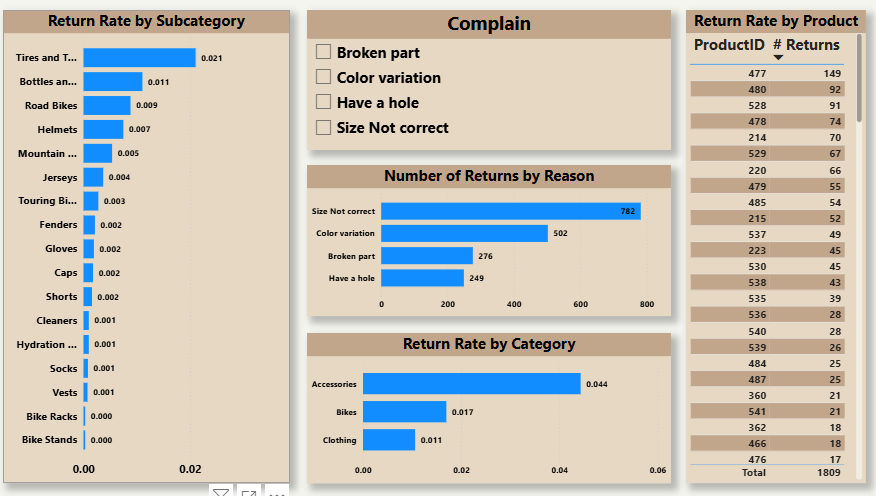

This screenshot's page, from the dashboard's own definition file:
{"tool":"powerbi","page":{"name":"Returns(2)","canvas":[1280,720],"ordinal":9},"visuals":[{"type":"barChart","title":"Return Rate by Category","fields":{"Category":["Complaints_Returns.CategoryName"],"Y":["AllMeasures.Return Rate"]},"box":[448.7,475.5,520.2,214.5],"z":0},{"type":"barChart","title":"Return Rate by Subcategory","fields":{"Category":["Complaints_Returns.SubcategoryName"],"Y":["AllMeasures.Return Rate"]},"box":[14.3,14.3,409.4,675.8],"z":1000},{"type":"tableEx","title":"Return Rate by Product","fields":{"Values":["Complaints_Returns.ProductID","AllMeasures.# Returns"]},"box":[990.4,14.3,257.4,675.8],"z":2000},{"type":"barChart","title":"Number of Returns by Reason","fields":{"Category":["Complaints_Returns.Complaint Description"],"Y":["CountNonNull(Complaints_Returns.ReturnID)"]},"box":[448.7,236,520.2,216.3],"z":3000},{"type":"slicer","title":"Complain","fields":{"Values":["Complaints_Returns.Complaint Description"]},"box":[448.7,14.3,520.2,200.2],"z":4000}]}

Visuals, with their boxes in screenshot pixels (x1, y1, x2, y2), scaled from the page's 1280x720 canvas onto the 876x496 screenshot:
"Return Rate by Category" barChart: [307,328,663,475]
"Return Rate by Subcategory" barChart: [10,10,290,475]
"Return Rate by Product" tableEx: [678,10,854,475]
"Number of Returns by Reason" barChart: [307,163,663,312]
"Complain" slicer: [307,10,663,148]
